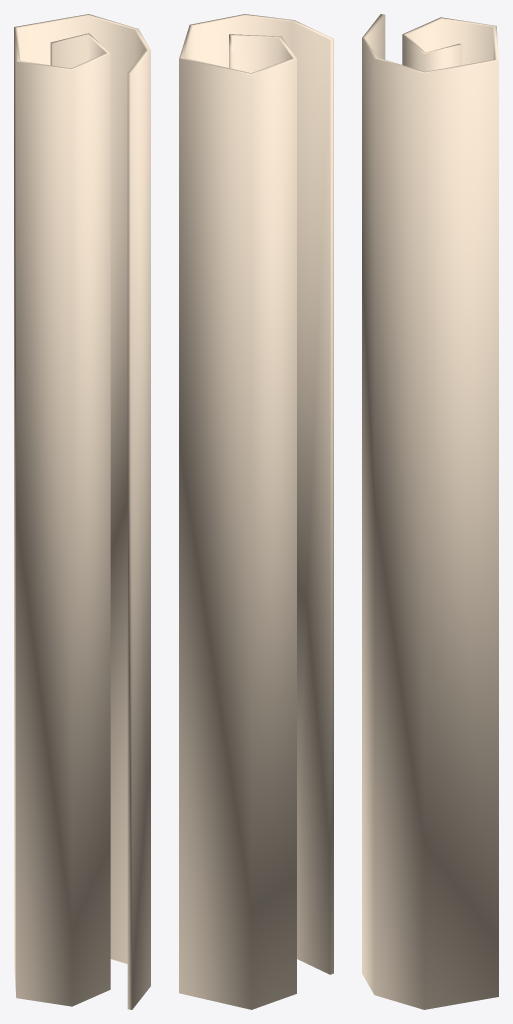
Rendered from papel.fbx.
3 views of the same model, side by side, from view 1: azimuth 90°, elevation 25°; view 2: azimuth 150°, elevation 25°; view 3: azimuth 270°, elevation 25° (orthographic).
Parts seen in each view (by area): view 1: papel; view 2: papel; view 3: papel.
Part boxes in pixels (x1,y1,x2,y2): papel: [14, 14, 150, 1009]; papel: [179, 14, 333, 1009]; papel: [362, 14, 498, 1009].
Size of the model in its own units: 2.86 by 20.83 by 2.76.
